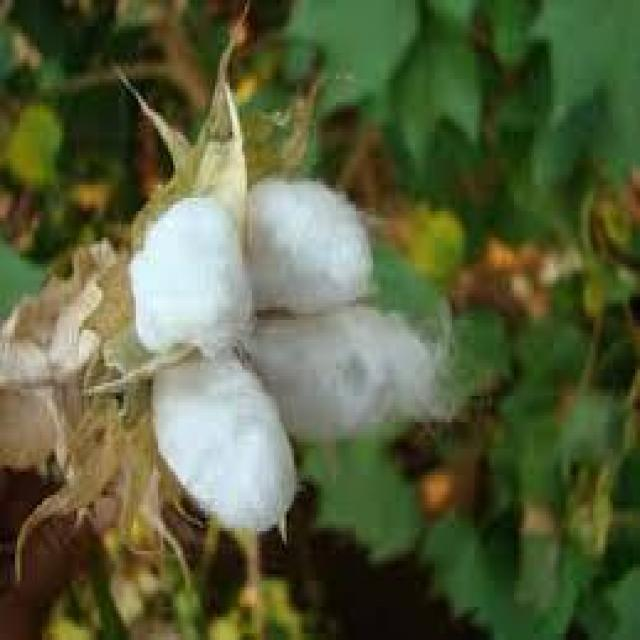Leaf: (84, 70, 478, 548)
